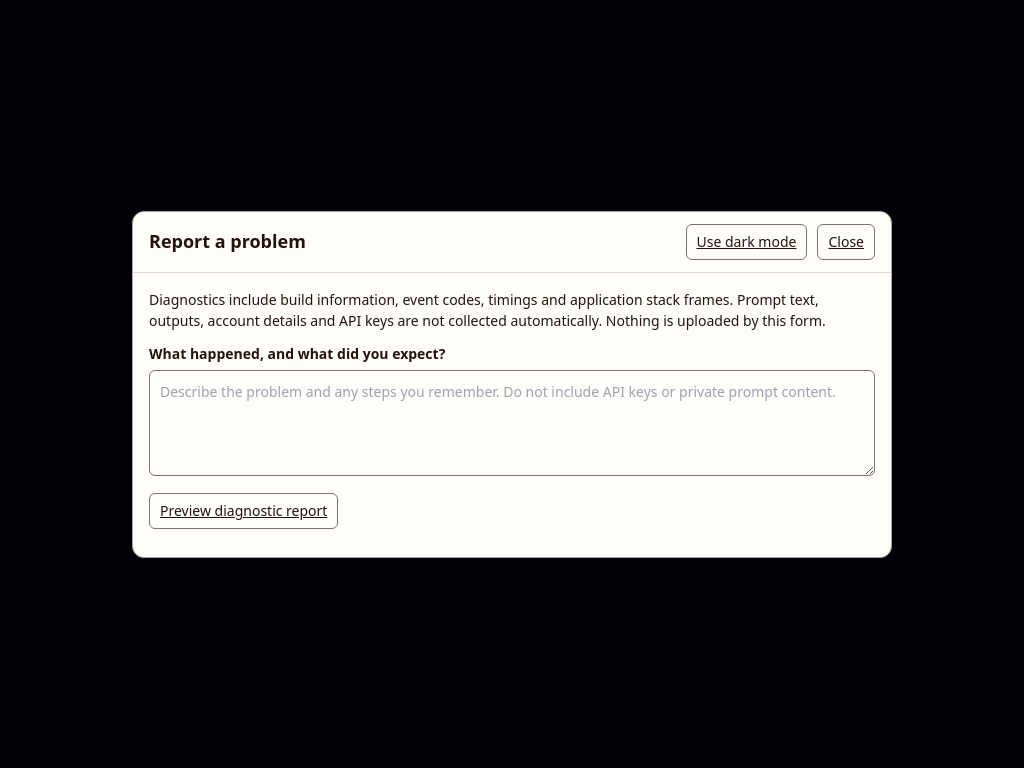
it: uses only the report ID to open the native issue draft and shows launch failure
Replace the text in the text box with "PRIVATE_USER_DESCRIPTION". click: (512, 422)
box: [149,370,875,476]
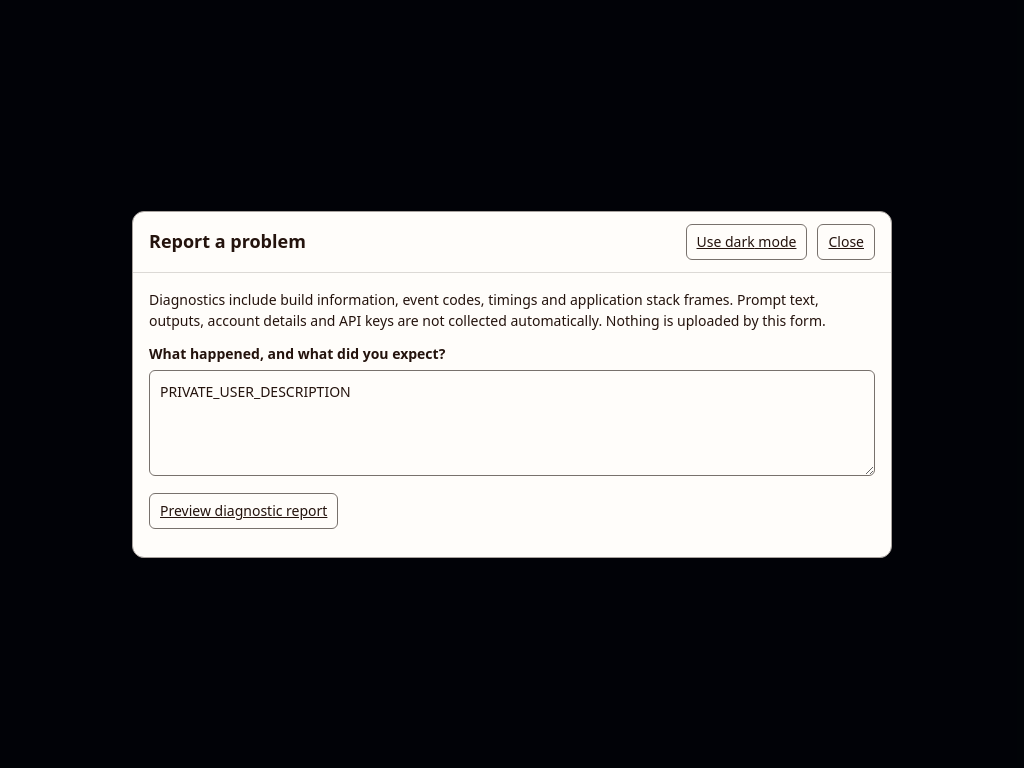
Click the button "Preview diagnostic report". click: click(244, 510)
box: [149,492,338,528]
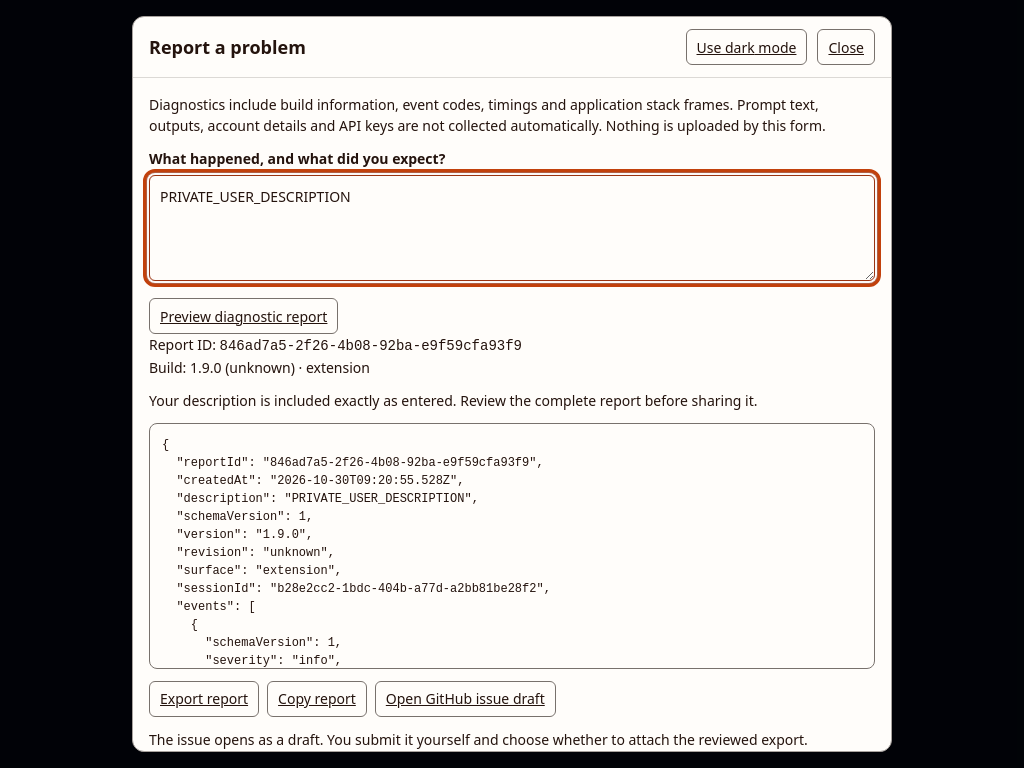
Check: the text named "Complete diagnostic report" is shown, box [149,423,875,669]
Click the link "Open GitHub issue draft". click: click(465, 699)
box: [375,681,556,717]
(page scrolled)
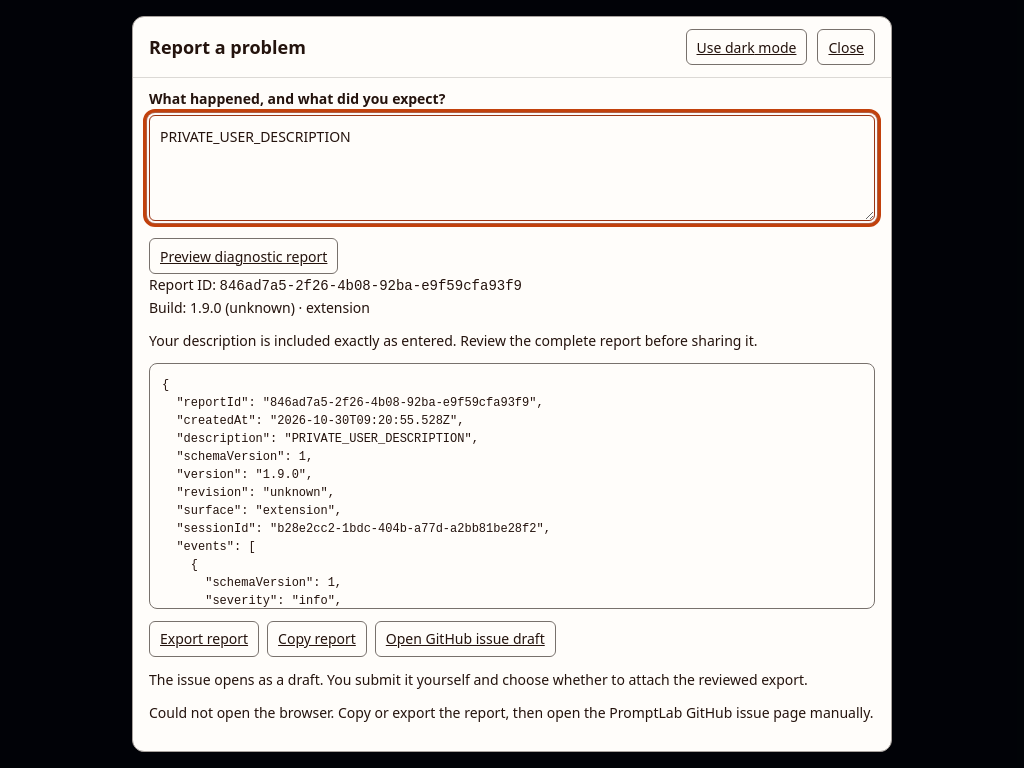
Check: the text "Could not open the browser" is shown, box [149,703,874,722]
